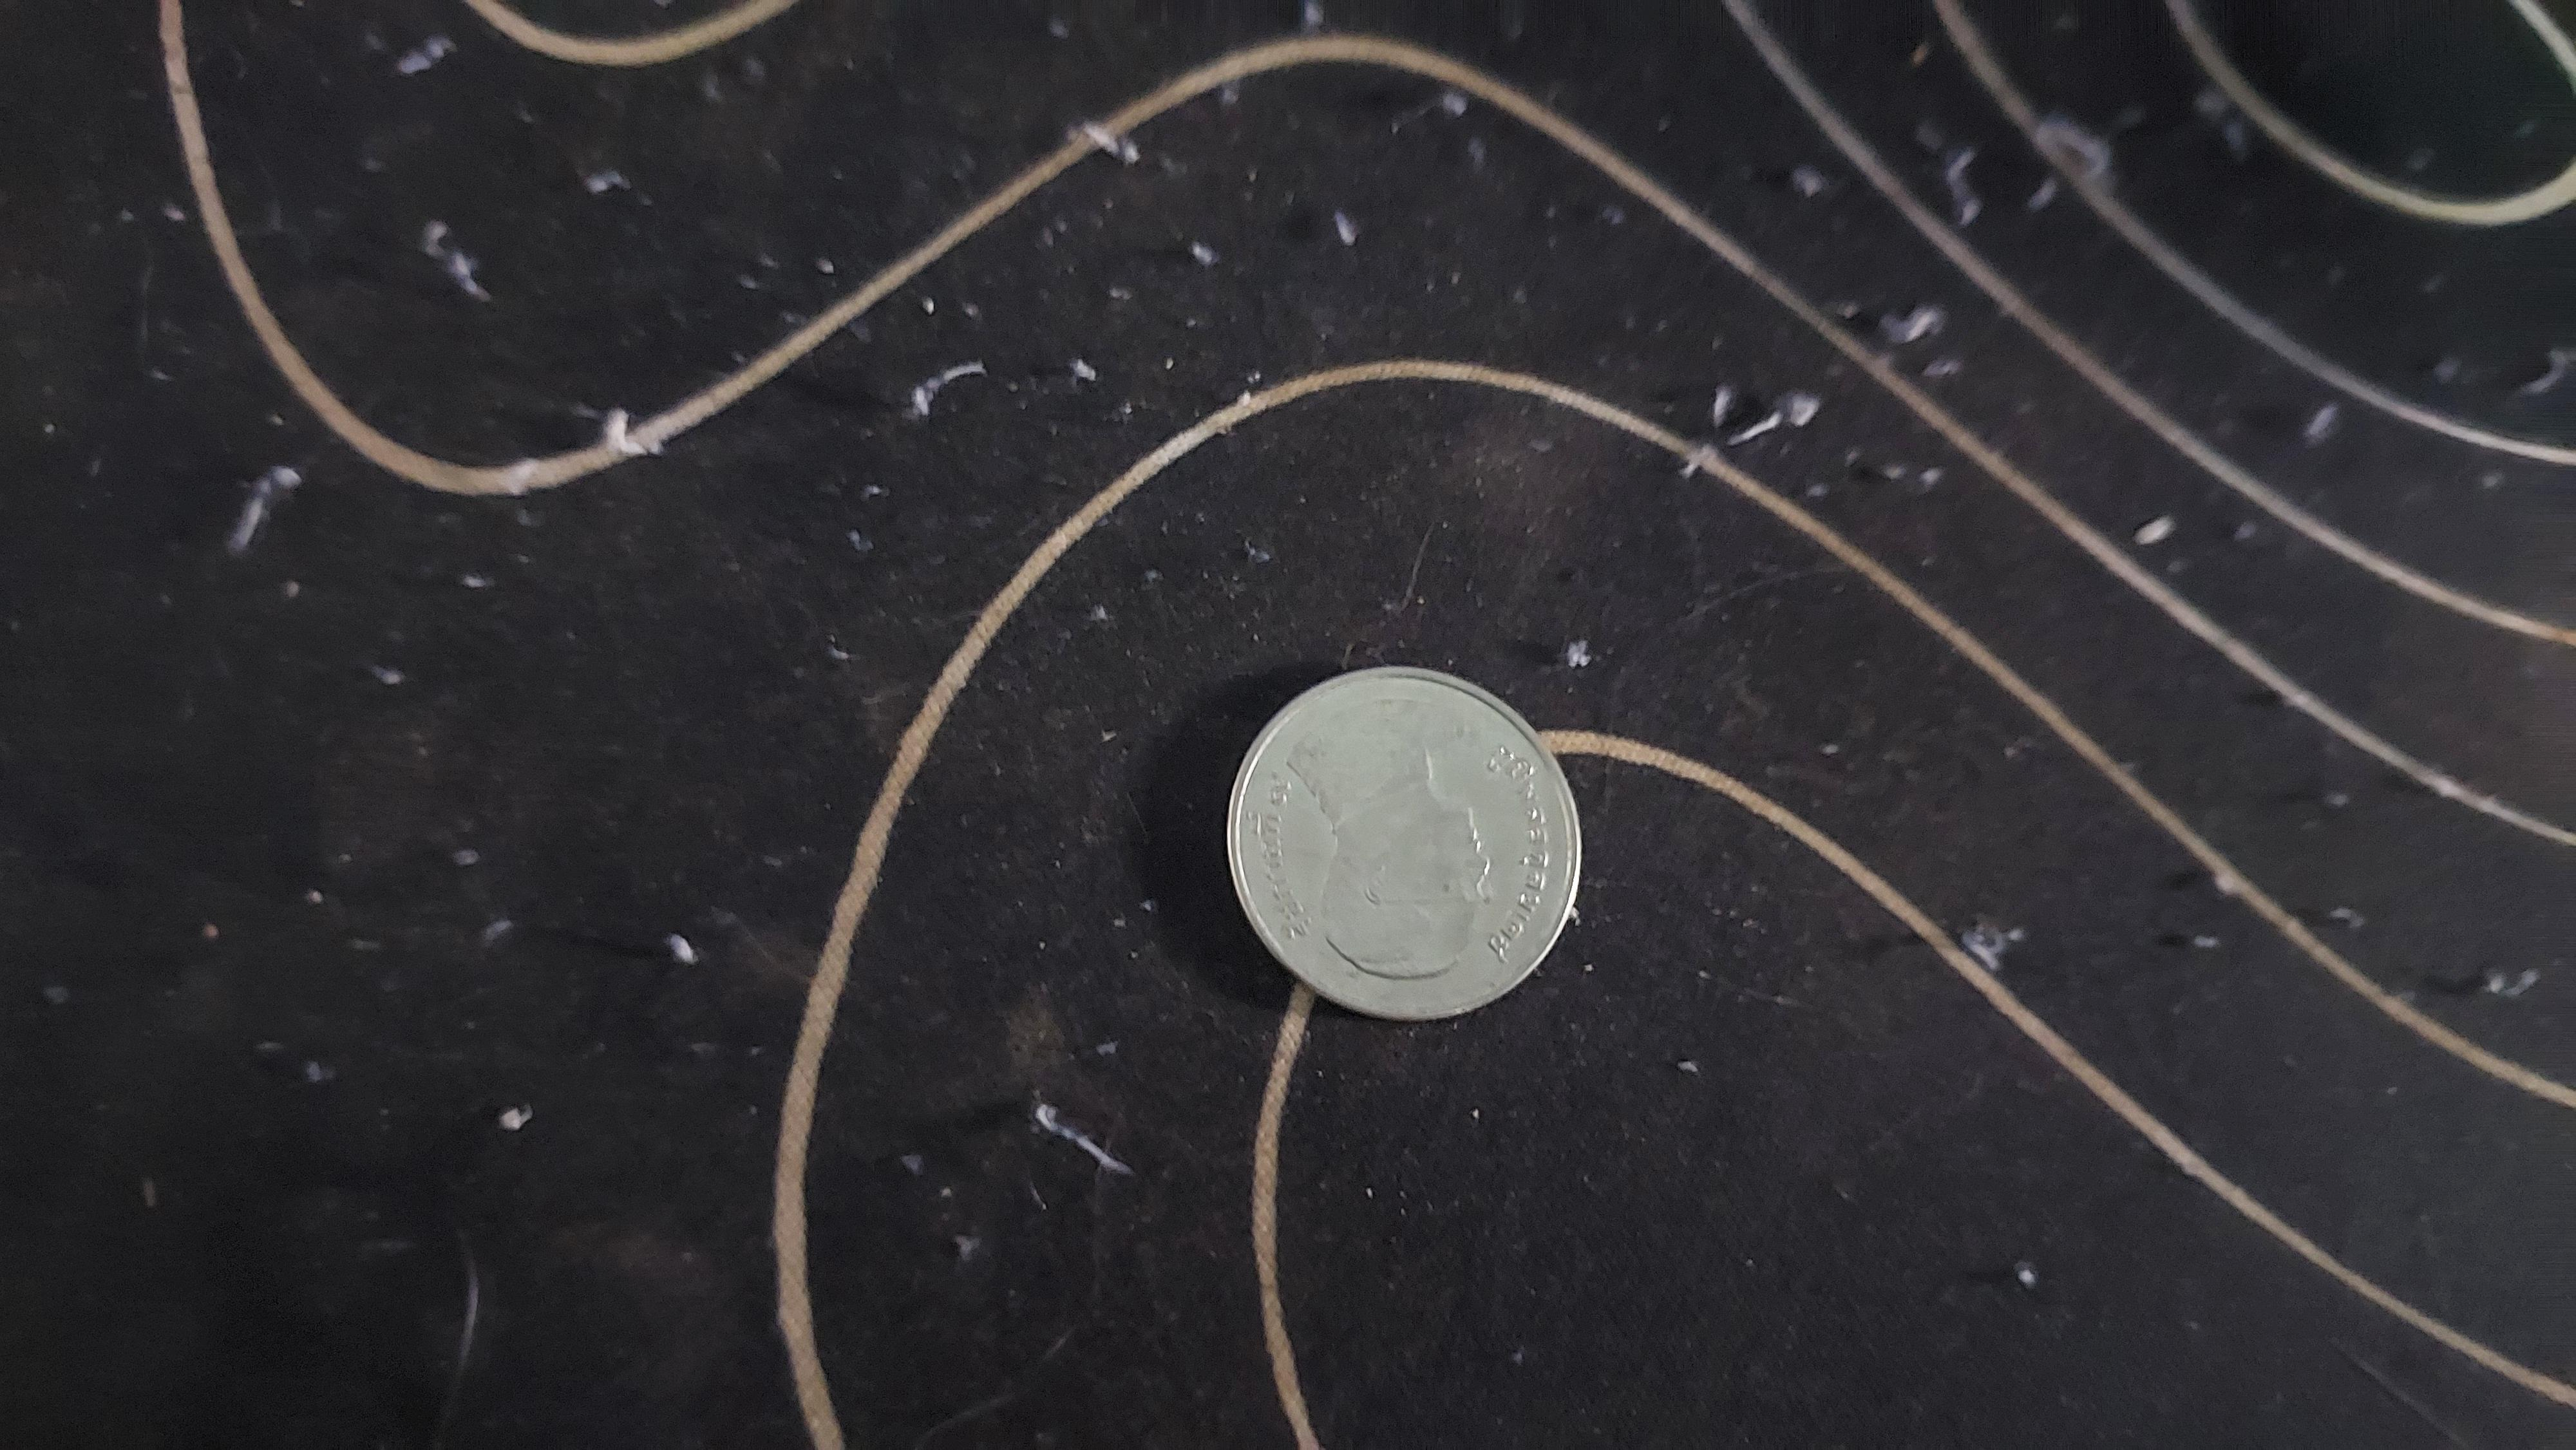5baht: (1210, 651, 1622, 1043)
